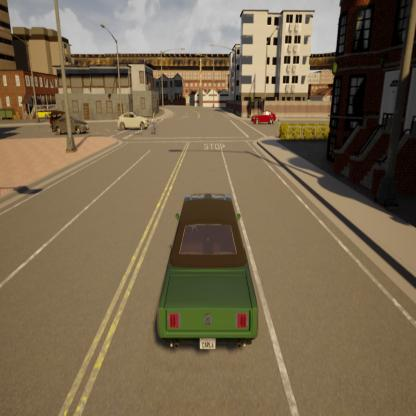Cars: (157, 184, 265, 366), (114, 110, 153, 134), (50, 115, 92, 136), (44, 107, 73, 130), (251, 104, 276, 126), (35, 104, 54, 122)
Pedestrian: (276, 114, 284, 137)
